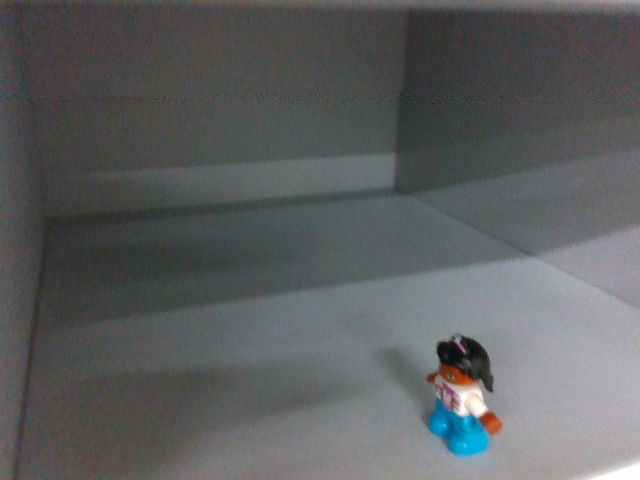people: (423, 332, 504, 458)
